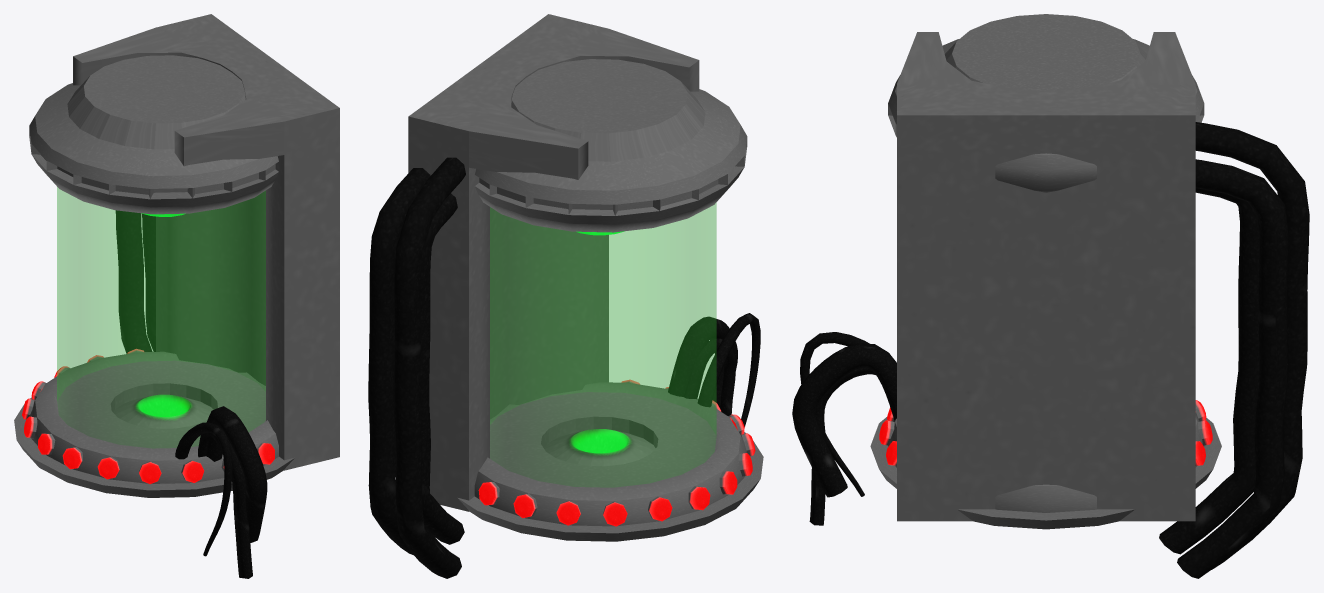
File: MonsterPod.fbx
3 renders of one model, left to right at view 1: azimuth 30°, elevation 25°; view 2: azimuth 150°, elevation 25°; view 3: azimuth 270°, elevation 25°, orthographic. The views are drawn at different scales.
Parts seen in each view (by area): view 1: pCube49, pCylinder4, pCylinder5, pCylinder2, sweep5, sweep3, sweep1, sweep2; view 2: pCylinder4, pCube49, pCylinder2, pCylinder5, sweep5, sweep3, sweep2, sweep1; view 3: pCube49, sweep5, pCylinder5, pCylinder2, sweep3, sweep1, sweep2.
Boxes of the visible parts, x1,y1,x2,y2 form: pCube49: (73, 14, 339, 470); pCylinder4: (57, 187, 265, 448); pCylinder5: (29, 55, 278, 216); pCylinder2: (14, 351, 294, 497); sweep5: (115, 210, 155, 353); sweep3: (206, 406, 267, 542); sweep1: (198, 432, 252, 578); sweep2: (175, 422, 232, 556); pCylinder4: (490, 203, 716, 487); pCube49: (408, 14, 699, 511); pCylinder2: (458, 382, 763, 541); pCylinder5: (475, 59, 747, 235); sweep5: (368, 157, 465, 578); sweep3: (668, 316, 737, 408); sweep2: (697, 313, 760, 426); sweep1: (684, 338, 735, 415); pCube49: (897, 32, 1195, 521); sweep5: (1159, 122, 1309, 578); pCylinder5: (888, 14, 1204, 192); pCylinder2: (870, 412, 1221, 529); sweep3: (792, 343, 896, 497); sweep1: (809, 367, 875, 525); sweep2: (800, 332, 869, 496).
Bounding box in the file's own units: 2.35 × 3.55 × 3.46.
